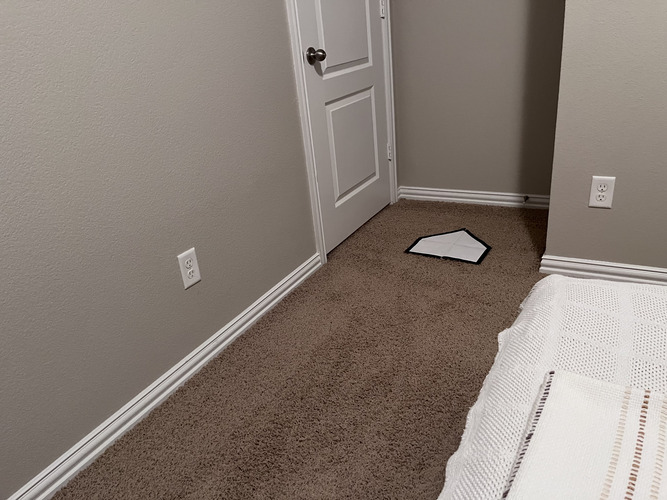homeplate: (400, 227, 491, 264)
